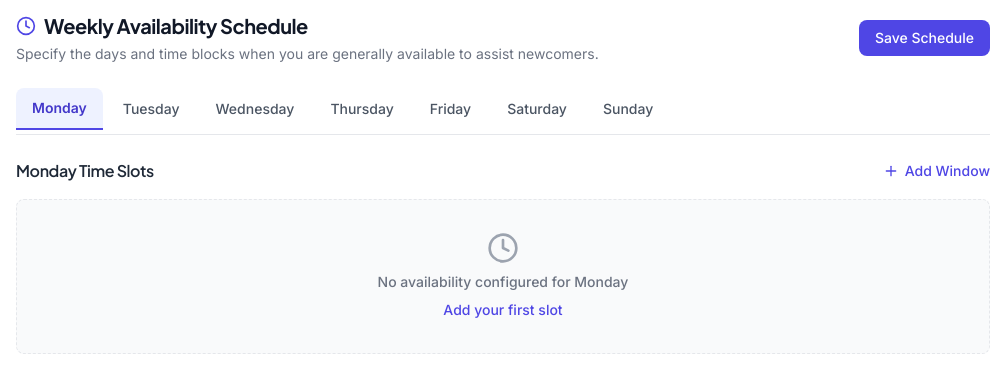
Test case: Phase 14 — Sessions and Availability Frontend Components › 2. WeeklyScheduleEditor allows adding and removing a time slot
The image size is (1007, 371).
Expected: the text "No availability configured for Monday" is shown, [378,273,628,290]
Click the button "Add Window" at (936, 171), box [883,161,990,181]
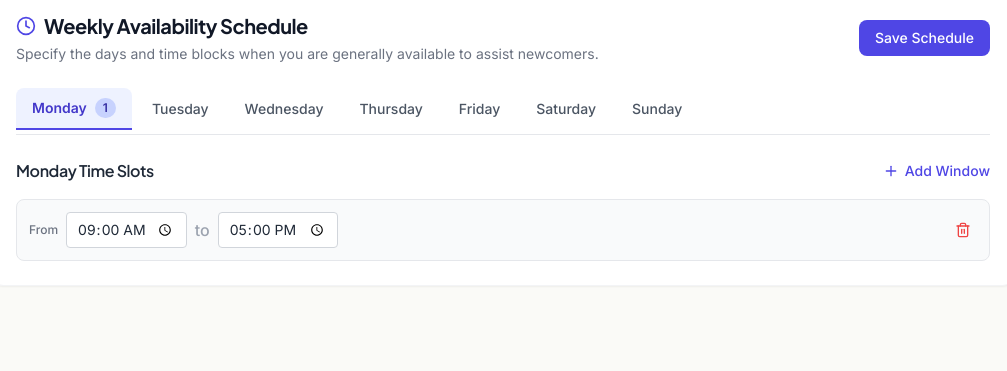
Expected: the 1st time field showing "09:00" is shown, [66,212,187,248]
Expected: the 2nd time field showing "17:00" is shown, [218,212,338,248]
